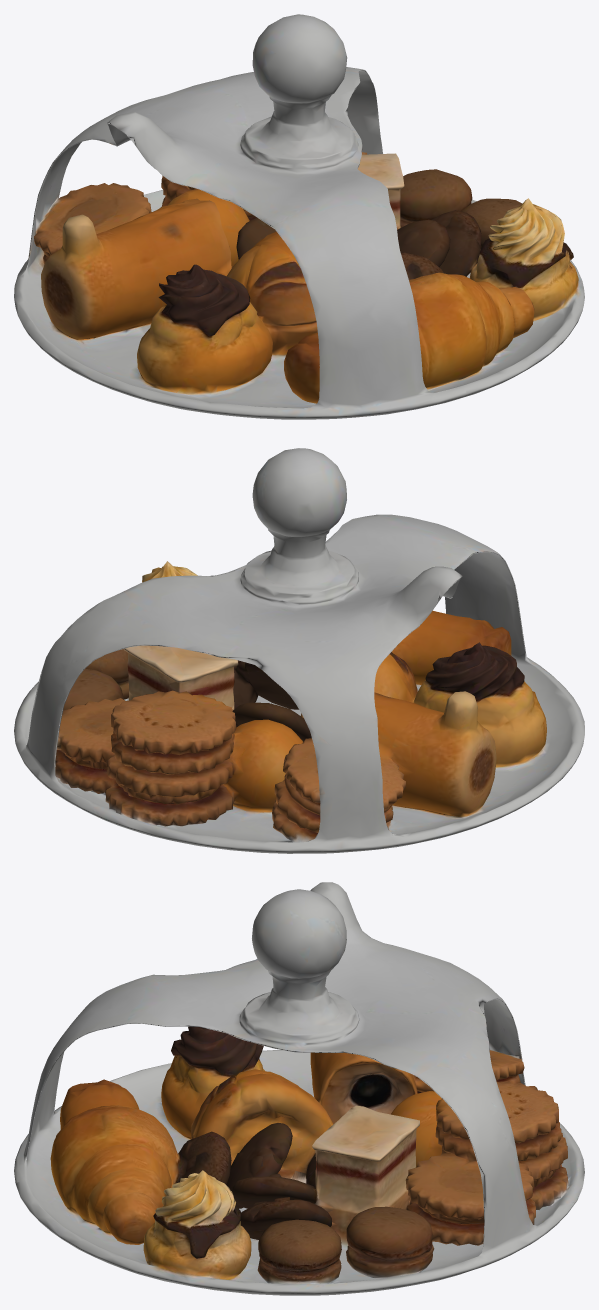
File: cake.glb
3 views of the same model, one above another, from view 1: azimuth 30°, elevation 25°; view 2: azimuth 150°, elevation 25°; view 3: azimuth 270°, elevation 25° (orthographic).
Visible parts, largest first — view 1: tripo_node_e9fa1d18-ac5b-4fb7-a2c6-78981c8a1dd2; view 2: tripo_node_e9fa1d18-ac5b-4fb7-a2c6-78981c8a1dd2; view 3: tripo_node_e9fa1d18-ac5b-4fb7-a2c6-78981c8a1dd2.
Boxes of the visible parts, left/top/right/bottom form: tripo_node_e9fa1d18-ac5b-4fb7-a2c6-78981c8a1dd2: left=14, top=14, right=584, bottom=419; tripo_node_e9fa1d18-ac5b-4fb7-a2c6-78981c8a1dd2: left=14, top=448, right=584, bottom=853; tripo_node_e9fa1d18-ac5b-4fb7-a2c6-78981c8a1dd2: left=14, top=882, right=584, bottom=1295.
Size of the model in its own units: 1.72 by 1 by 1.72.
Materials: 1 (1 with a texture image).
